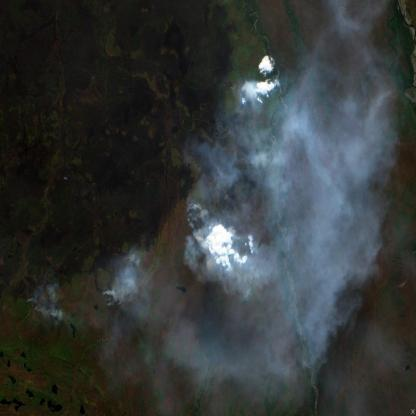fire: (184, 179, 239, 269), (21, 273, 70, 327), (93, 254, 138, 312), (228, 64, 278, 110), (239, 132, 266, 170)
